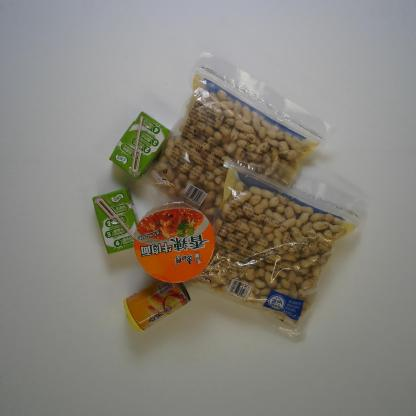Canned Food: (121, 274, 192, 335)
Dried Food: (188, 150, 371, 346), (136, 45, 336, 220)
Instant Noodles: (132, 198, 216, 284)
Milk: (108, 110, 173, 181), (89, 186, 140, 257)
